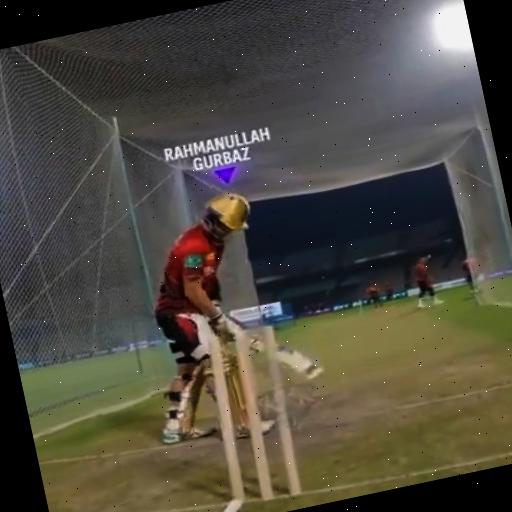Cricket bat: (277, 343, 322, 379), (250, 336, 264, 349)
